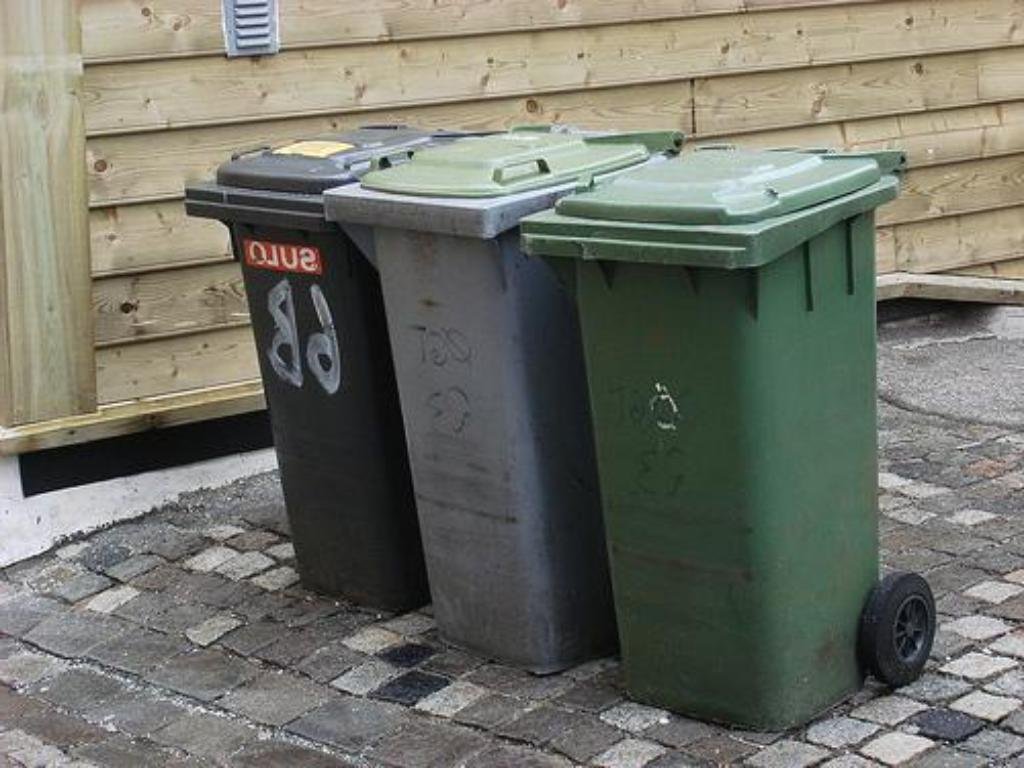dustbin: (215, 126, 654, 652), (548, 138, 907, 701)
